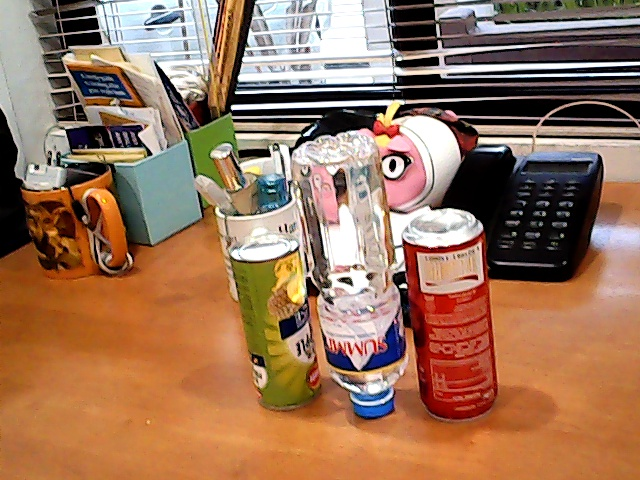Cola: (408, 162, 497, 416)
Pine Juice: (227, 225, 323, 412)
Summit Water: (320, 226, 407, 418)
